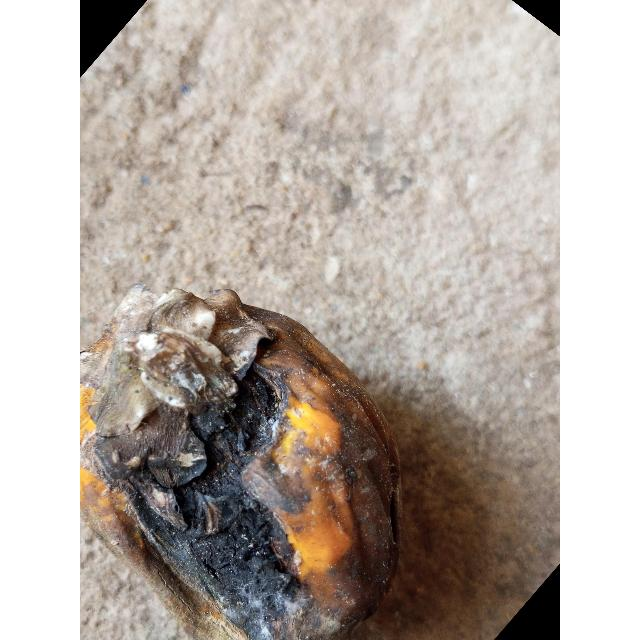damaged: (80, 285, 401, 640)
